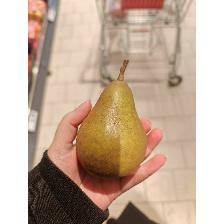Birne: (74, 57, 150, 181)
